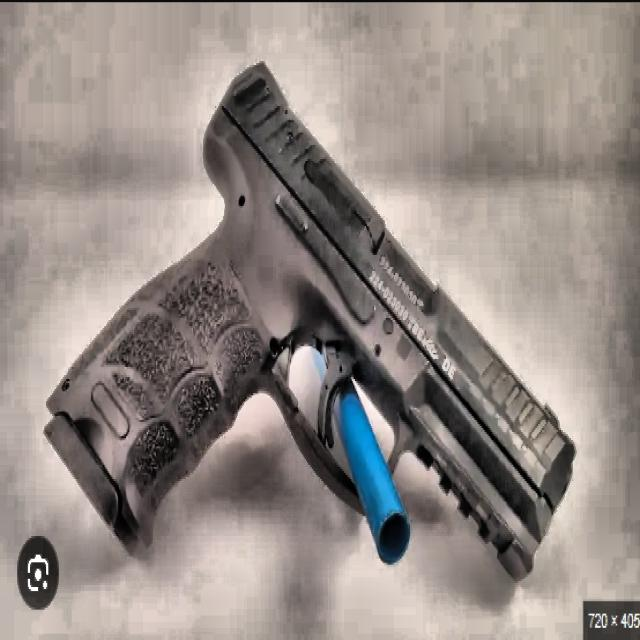HKVP9: (43, 59, 576, 583)
